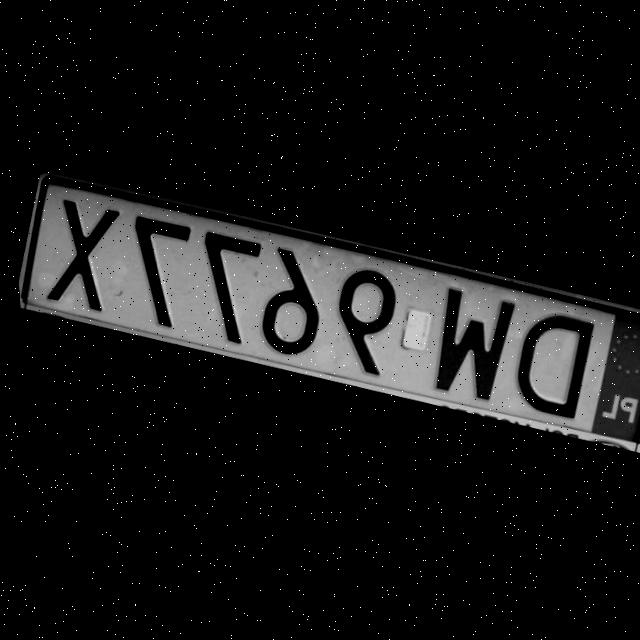license-plates: (19, 173, 640, 453)
